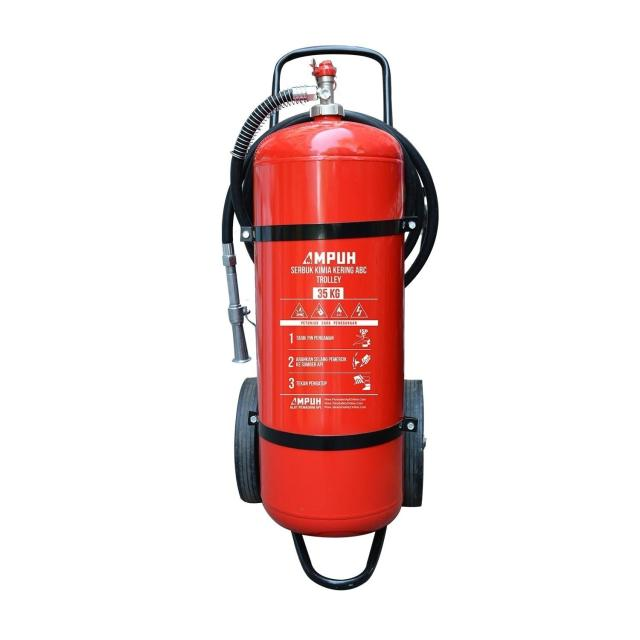fire_extinguisher: (214, 49, 436, 542)
